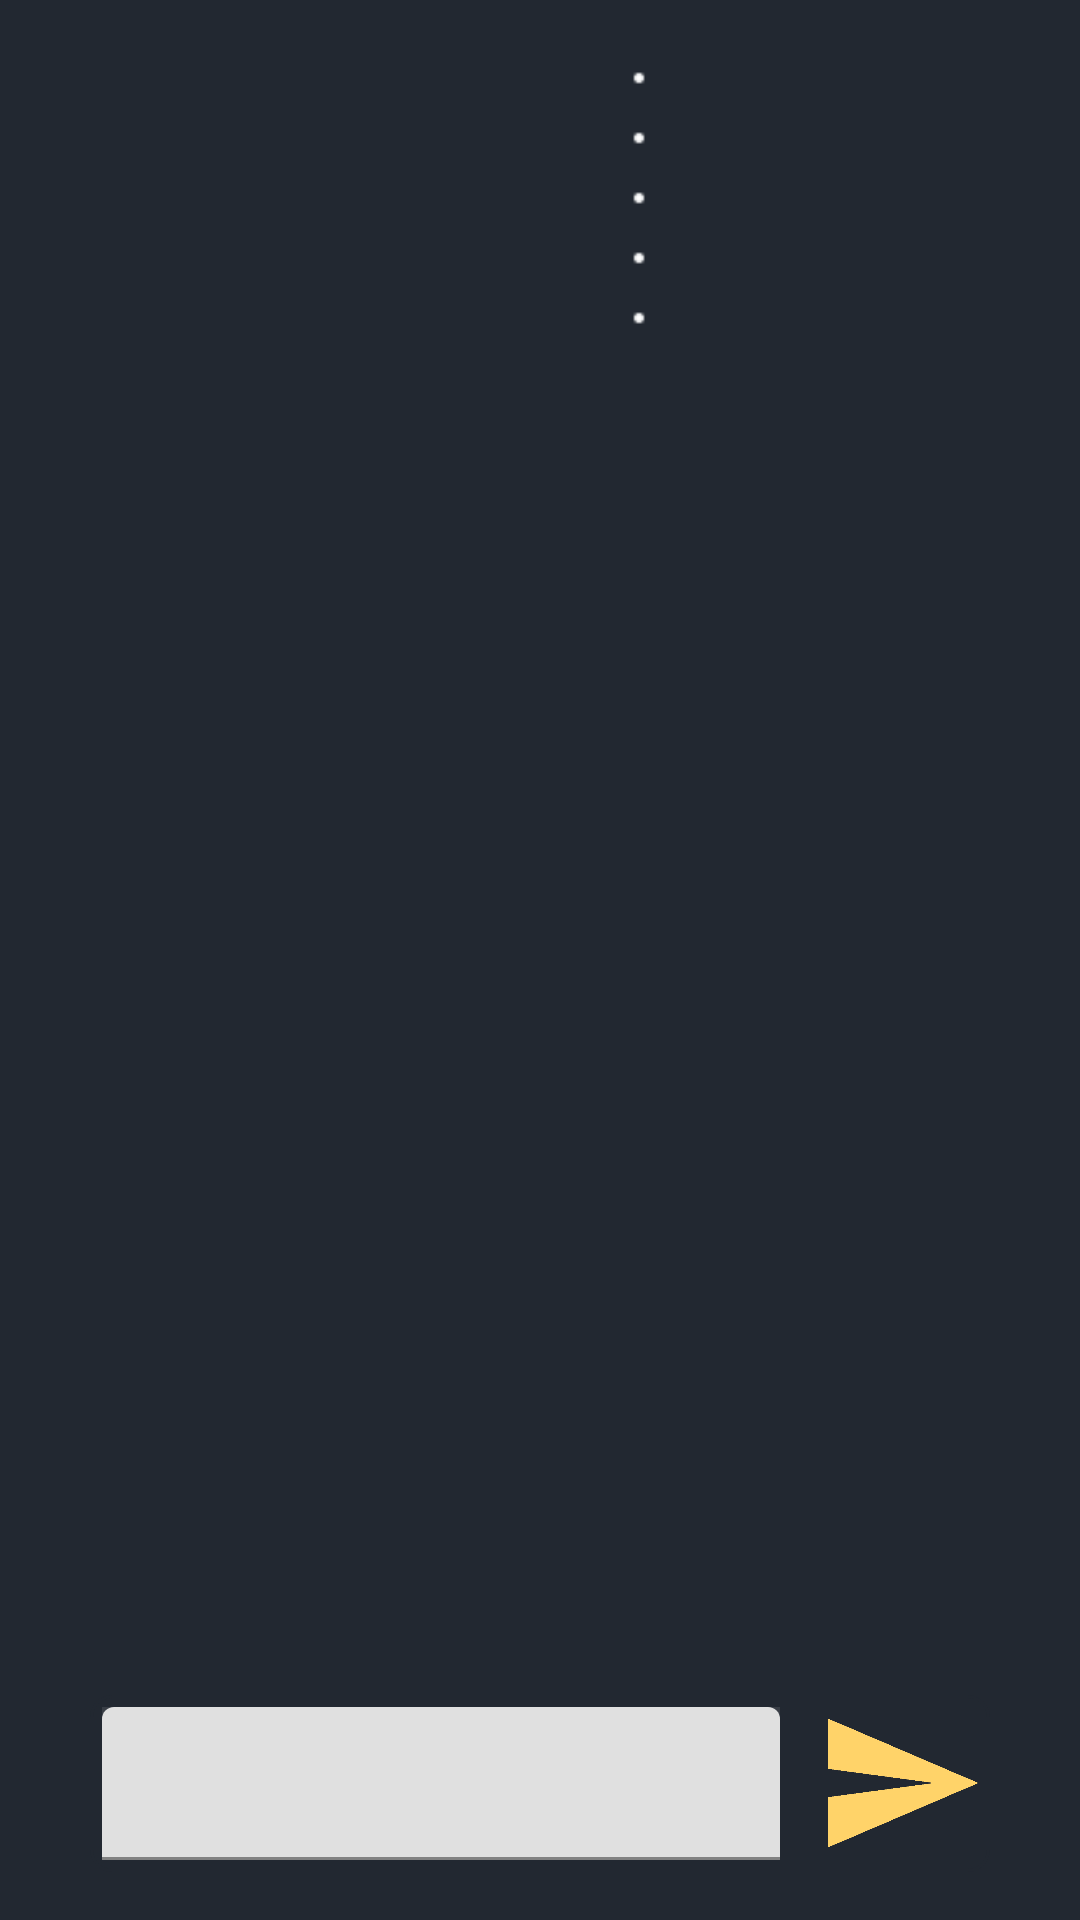

Point at icon controls on the screen. Image size 1080w x 1920h, points as (x,y).
send: (903,1783)
